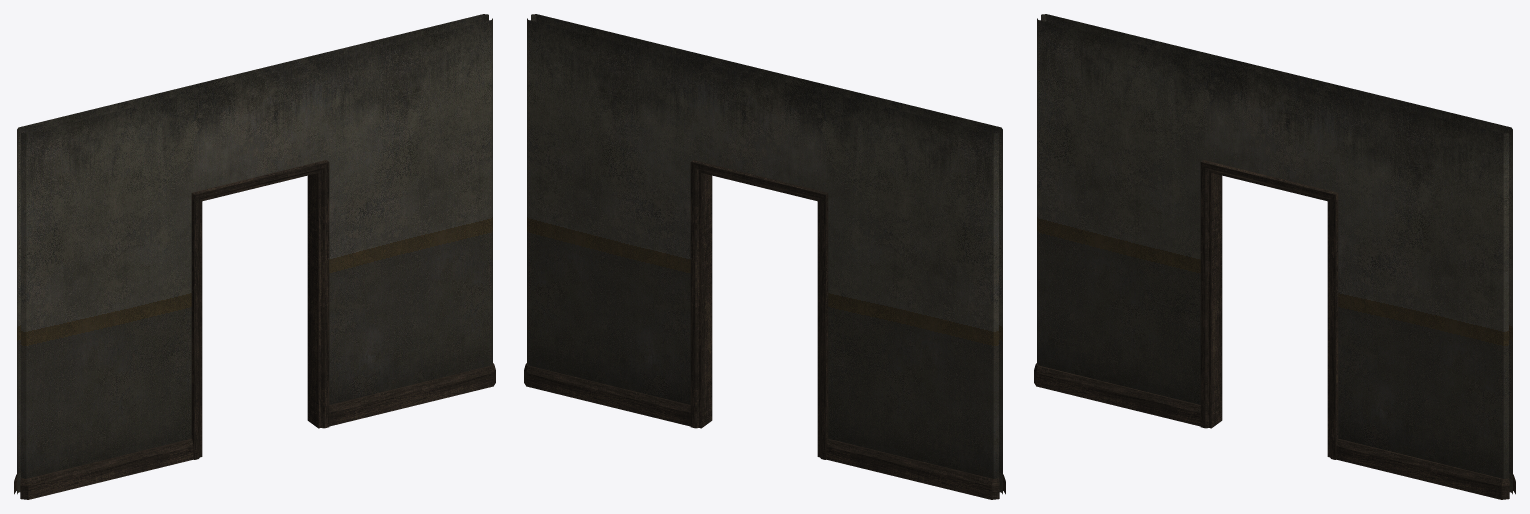
Rendered from doorway_1.glb.
The picture shows the model from 3 angles, left to right: view 1: azimuth 30°, elevation 25°; view 2: azimuth 150°, elevation 25°; view 3: azimuth 330°, elevation 25°; orthographic projection.
Parts seen in each view (by area): view 1: doorway_1; view 2: doorway_1; view 3: doorway_1.
Part boxes in pixels (x1,y1,x2,y2): doorway_1: [14, 14, 495, 499]; doorway_1: [524, 14, 1005, 499]; doorway_1: [1034, 14, 1515, 499].
Size of the model in its own units: 4.09 by 3 by 0.2.
2 materials, 2 textured.
